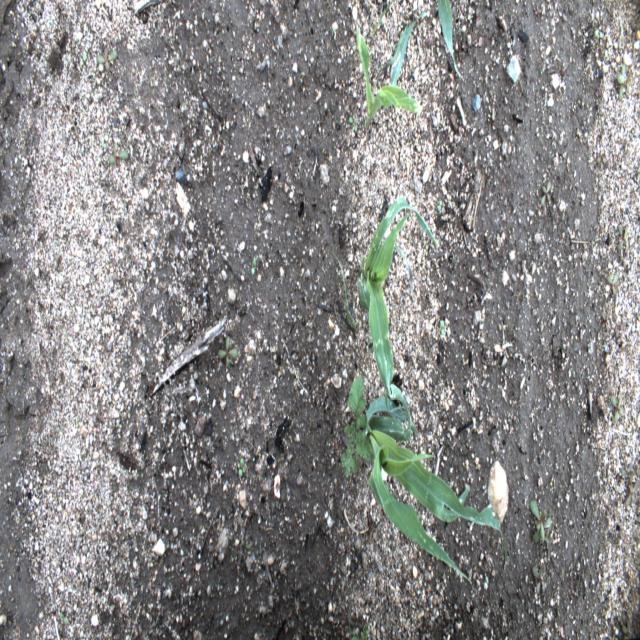crop: (362, 395, 507, 585), (356, 196, 439, 440), (356, 27, 421, 130), (390, 12, 428, 92), (436, 0, 464, 81)
weed: (341, 375, 376, 478), (371, 23, 408, 104), (328, 249, 359, 332), (370, 0, 394, 39), (530, 498, 547, 544), (611, 64, 631, 100), (217, 335, 238, 368), (531, 517, 551, 543), (96, 46, 117, 70), (532, 563, 546, 594), (108, 146, 128, 166), (625, 480, 639, 508), (610, 393, 623, 423), (616, 226, 628, 252), (624, 470, 634, 499), (541, 180, 551, 207), (614, 321, 626, 343), (607, 272, 618, 294), (620, 619, 632, 639), (358, 257, 367, 283), (622, 462, 636, 477), (237, 456, 246, 478), (601, 310, 610, 332), (349, 116, 358, 132), (292, 370, 300, 386), (59, 612, 69, 624), (242, 539, 252, 551), (437, 198, 444, 214), (594, 84, 602, 97), (296, 71, 306, 81), (251, 258, 257, 274), (595, 28, 604, 38), (596, 156, 607, 164), (361, 626, 367, 639), (80, 55, 87, 66), (351, 629, 358, 639), (329, 25, 335, 34), (535, 8, 541, 17), (257, 545, 262, 555), (101, 140, 106, 149), (550, 487, 554, 494), (540, 68, 544, 75), (298, 314, 302, 320)
